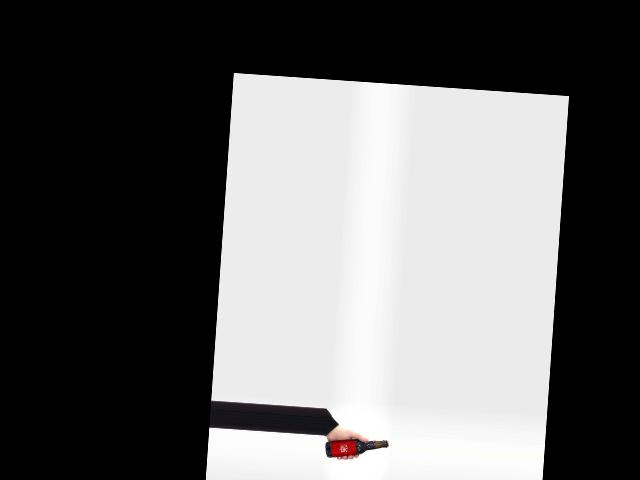beer: (324, 435, 389, 462)
